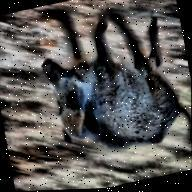boar: (32, 0, 192, 174)
